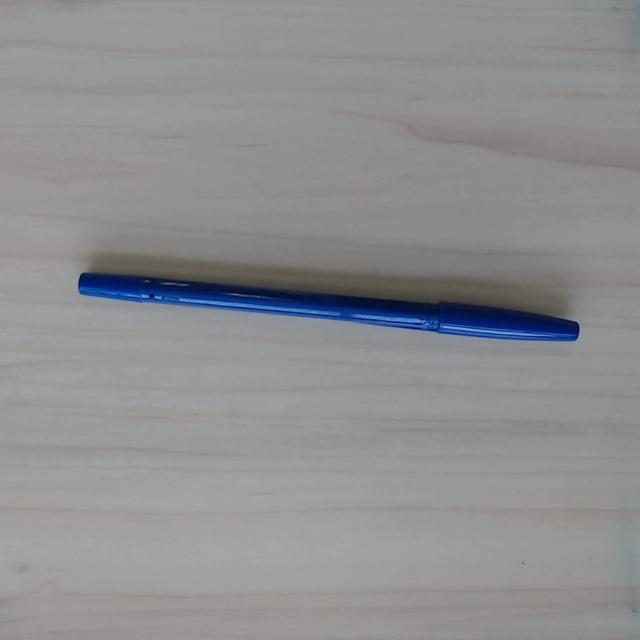Pulpen-Biru: (77, 272, 581, 345)
